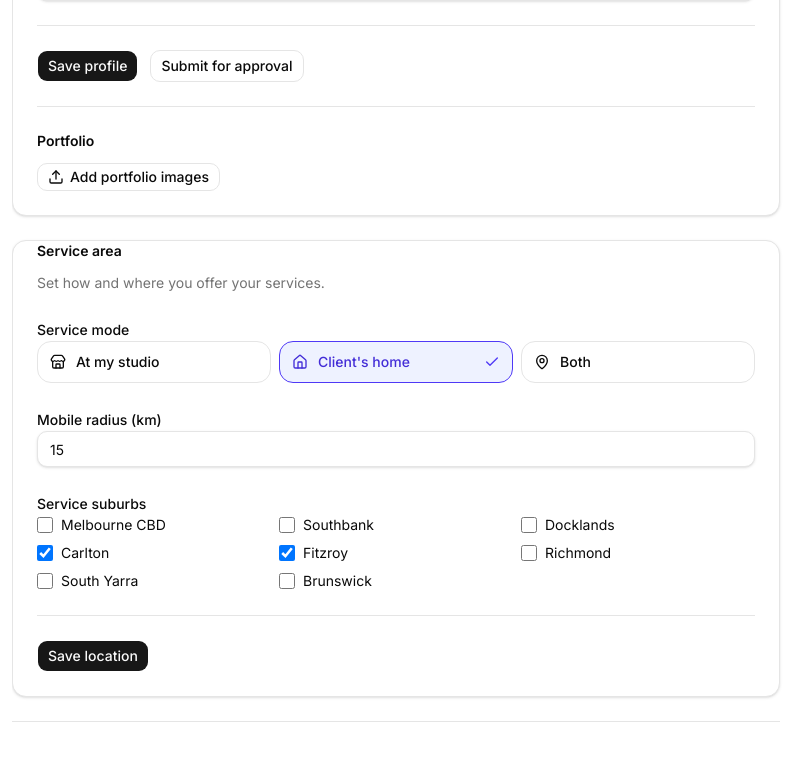
Test case: ProviderProfilePage – relocated Location & coverage section › reveals studio fields when switching mode to BOTH
(page scrolled)
Check: the field labelled "Studio address" is not shown
Click the radio button labelled "Both".
click(638, 362)  # box [521,341,755,383]
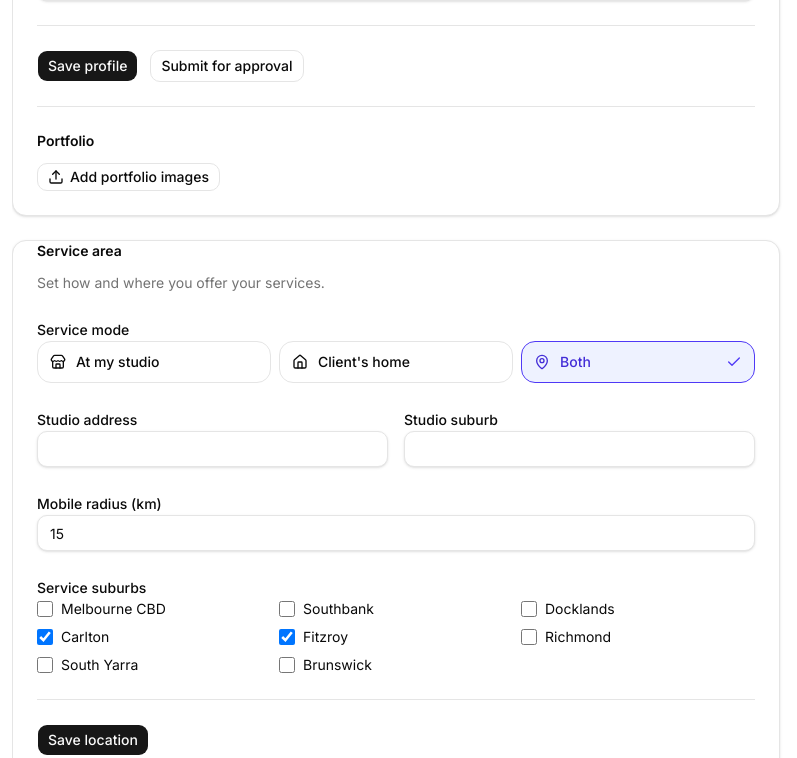
Check: the field labelled "Studio address" is shown, box [37,431,388,467]
